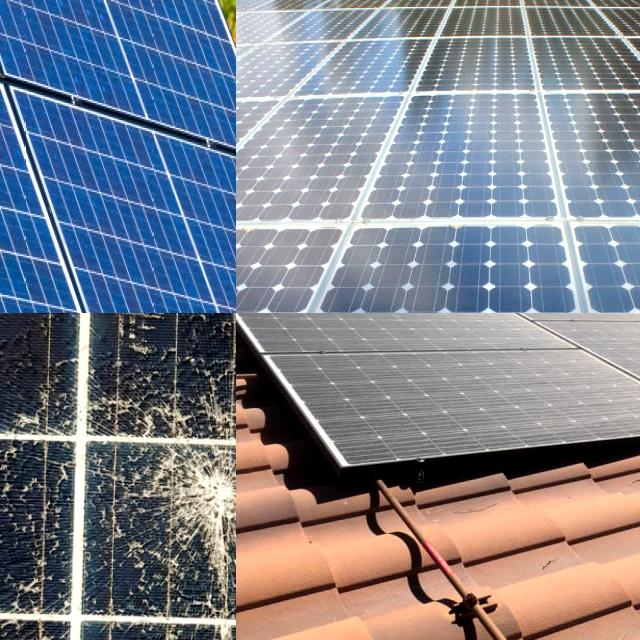crack: (0, 0, 236, 313), (236, 196, 640, 313), (355, 65, 589, 248), (236, 88, 435, 252), (536, 72, 640, 277)
dust: (310, 353, 640, 426), (254, 313, 556, 340), (236, 313, 430, 333), (236, 313, 329, 331), (605, 321, 640, 350)
hotspot: (122, 433, 236, 597)
